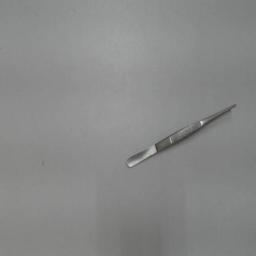Gillies Toothed Dissector: (122, 98, 242, 174)
